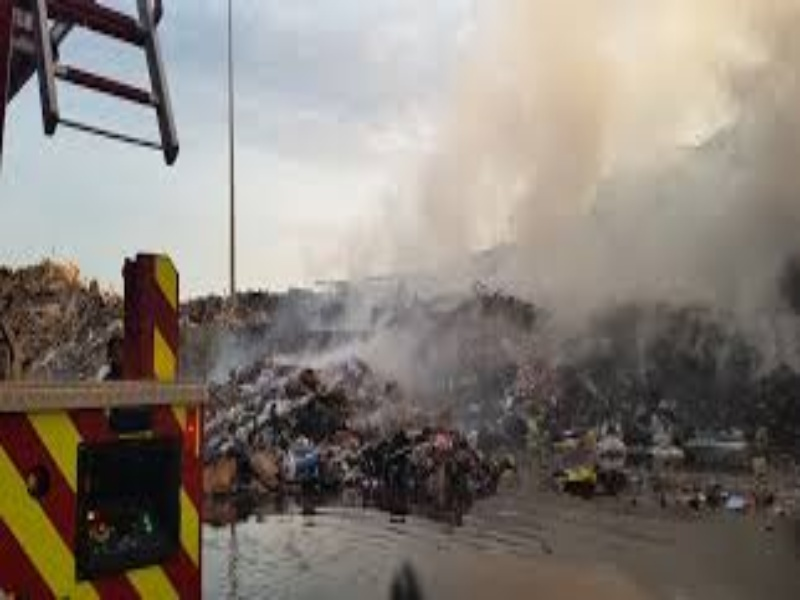smoke: (479, 1, 796, 310)
